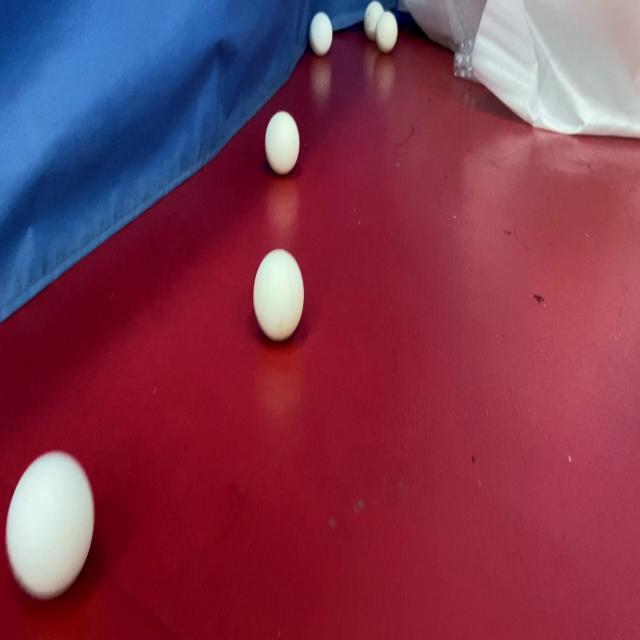ping-pong-ball: (3, 449, 98, 609), (251, 246, 306, 346), (262, 108, 302, 176), (308, 10, 334, 57), (375, 12, 399, 54), (363, 0, 387, 40)
